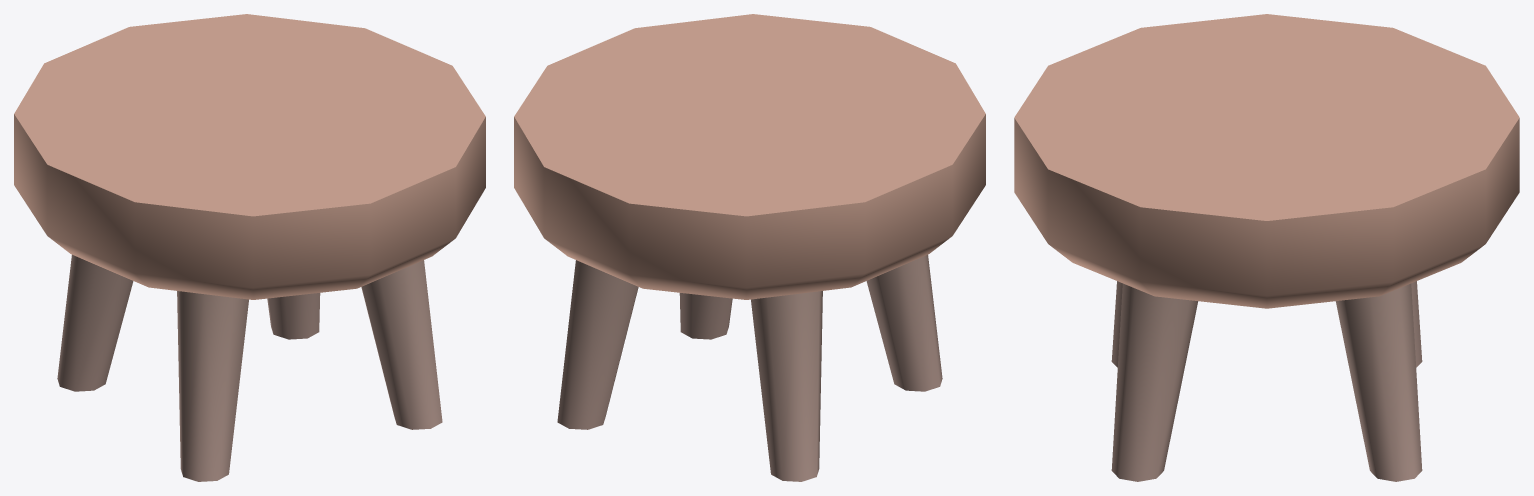
The model's file is wooden-stool-round.glb.
3 renders of one model, left to right at view 1: azimuth 30°, elevation 25°; view 2: azimuth 150°, elevation 25°; view 3: azimuth 270°, elevation 25°, orthographic. The views are drawn at different scales.
Visible parts, largest first — view 1: wooden-stool-round; view 2: wooden-stool-round; view 3: wooden-stool-round.
Part boxes in pixels (<box>): wooden-stool-round: <box>14,14,485,481</box>; wooden-stool-round: <box>514,14,985,481</box>; wooden-stool-round: <box>1014,14,1519,481</box>.
Bounding box in the file's own units: 0.446 × 0.3 × 0.46.
